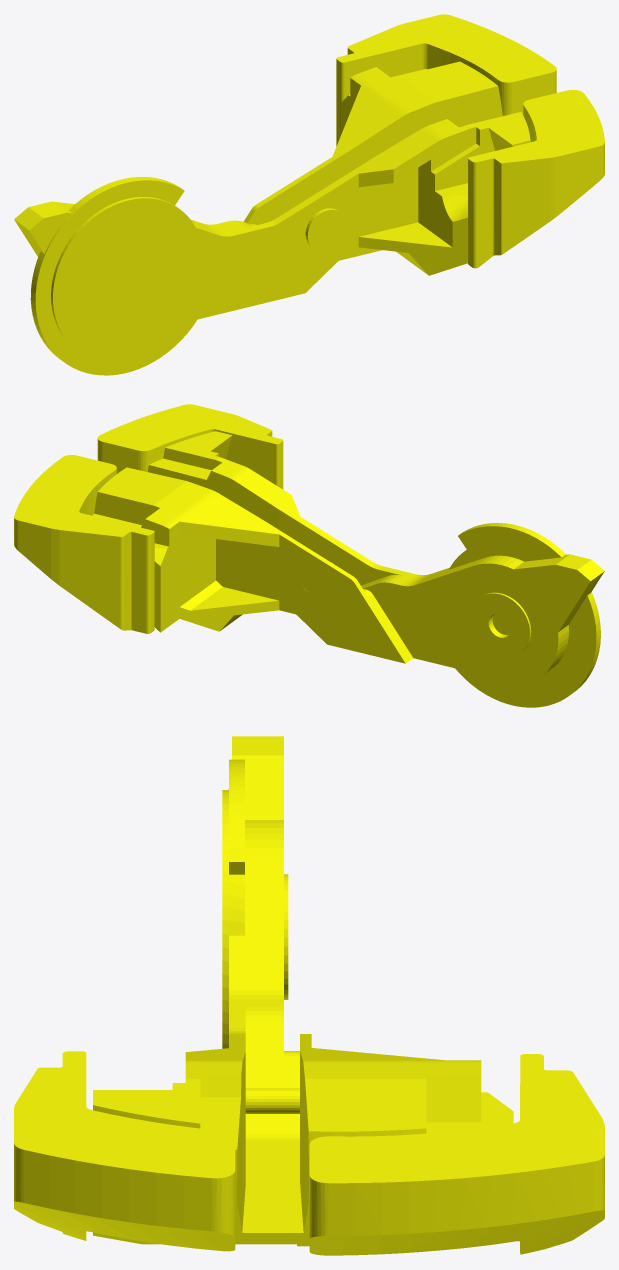
3 renders of one model, top to bottom at view 1: azimuth 30°, elevation 25°; view 2: azimuth 150°, elevation 25°; view 3: azimuth 270°, elevation 25°, orthographic. The views are drawn at different scales.
Parts seen in each view (by area): view 1: node; view 2: node; view 3: node.
Part boxes in pixels (left/top/right/bottom): node: left=14, top=14, right=604, bottom=375; node: left=14, top=404, right=604, bottom=707; node: left=14, top=736, right=604, bottom=1255.
Size of the model in its own units: 1672 by 548 by 913.
